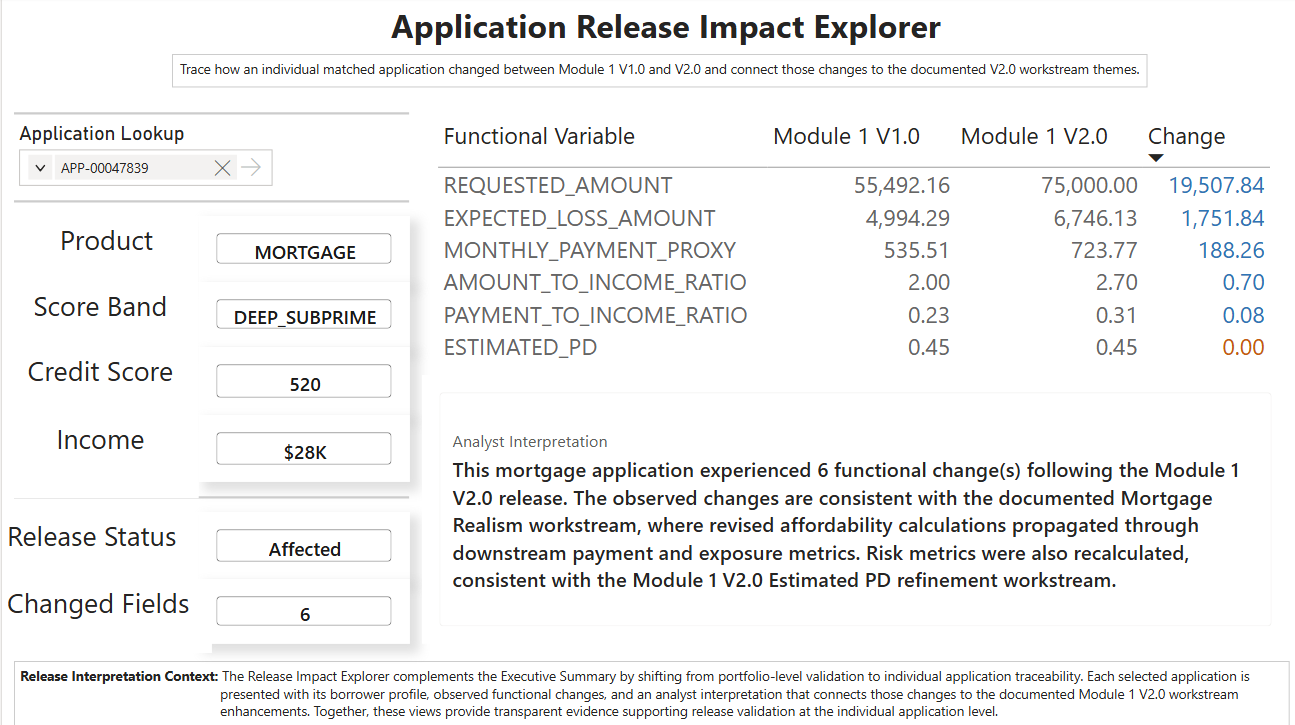

Layout of this report page (visuals, bound fields, positions):
{"tool":"powerbi","page":{"name":"02 | Release Impact Explorer","canvas":[1280,720],"ordinal":1},"visuals":[{"type":"textbox","box":[221.5,0,865.8,56.4],"z":0},{"type":"textbox","box":[167.2,56.4,961.6,33],"z":1000},{"type":"textbox","box":[11.7,654.9,1257.6,65],"z":2000},{"type":"textSlicer","title":"Application Lookup","fields":{"Values":["FactReleaseComparison.Application_ID"]},"box":[11.7,123.5,259.8,68.2],"z":3000},{"type":"cardVisual","fields":{"Data":["_Measures.Selected Product"]},"box":[193.8,216.2,207.7,65],"z":4000},{"type":"shape","box":[11.7,176.8,389.8,50],"z":5000},{"type":"shape","box":[11.7,89.5,389.8,50],"z":6000},{"type":"cardVisual","fields":{"Data":["_Measures.Selected Score Band"]},"box":[193.8,281.1,207.7,63.9],"z":7000},{"type":"cardVisual","fields":{"Data":["_Measures.Selected Credit Score"]},"box":[193.8,345,207.7,67.1],"z":8000},{"type":"cardVisual","fields":{"Data":["_Measures.Selected Annual Income"]},"box":[193.8,412.1,207.7,66],"z":9000},{"type":"cardVisual","fields":{"Data":["_Measures.Selected Release Status"]},"box":[193.8,508,207.7,66],"z":10000},{"type":"shape","box":[11.7,468.6,389.8,50],"z":11000},{"type":"cardVisual","fields":{"Data":["_Measures.Selected Changed Fields"]},"box":[193.8,574,207.7,63.9],"z":12000},{"type":"textbox","box":[11.7,216.2,182.1,65],"z":13000},{"type":"textbox","box":[0,281.1,193.8,63.9],"z":14000},{"type":"textbox","box":[0,345,193.8,67.1],"z":15000},{"type":"textbox","box":[0,412.1,193.8,82],"z":16000},{"type":"textbox","box":[0,508,193.8,66],"z":17000},{"type":"textbox","box":[0,574,206.6,73.5],"z":18000},{"type":"tableEx","fields":{"Values":["FactReconciliationDetail.Variable","Sum(FactReconciliationDetail.Value_V1)","Sum(FactReconciliationDetail.Value_V2)","Sum(FactReconciliationDetail.Delta_V2_Minus_V1)"]},"box":[423.8,115,838.1,257.7],"z":18001},{"type":"cardVisual","fields":{"Data":["_Measures.Analyst Interpretation"]},"box":[414.2,372.7,855.1,265.2],"z":18002}]}

Visuals, with their boxes in screenshot pixels (x1, y1, x2, y2), scaled from the page's 1280x720 canvas onto the 1295x725 screenshot:
textbox: 224,0,1100,57
textbox: 169,57,1142,90
textbox: 12,659,1284,724
"Application Lookup" textSlicer: 12,124,275,193
cardVisual - _Measures.Selected Product: 196,218,406,283
shape: 12,178,406,228
shape: 12,90,406,140
cardVisual - _Measures.Selected Score Band: 196,283,406,347
cardVisual - _Measures.Selected Credit Score: 196,347,406,415
cardVisual - _Measures.Selected Annual Income: 196,415,406,481
cardVisual - _Measures.Selected Release Status: 196,512,406,578
shape: 12,472,406,522
cardVisual - _Measures.Selected Changed Fields: 196,578,406,642
textbox: 12,218,196,283
textbox: 0,283,196,347
textbox: 0,347,196,415
textbox: 0,415,196,498
textbox: 0,512,196,578
textbox: 0,578,209,652
tableEx - FactReconciliationDetail.Variable x Sum(FactReconciliationDetail.Value_V1): 429,116,1277,375
cardVisual - _Measures.Analyst Interpretation: 419,375,1284,642
